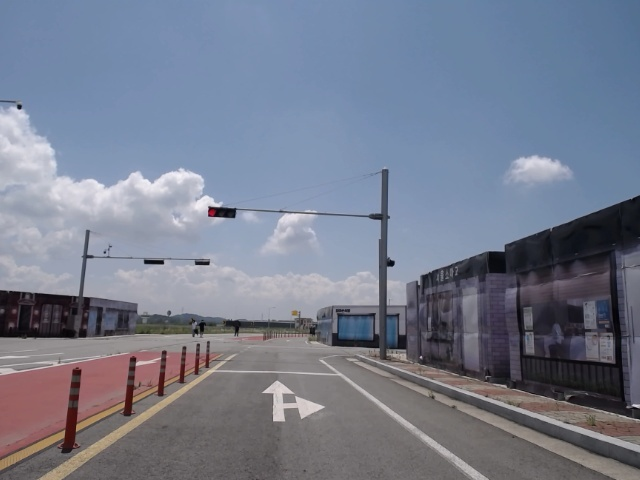red_3: (207, 206, 238, 219)
